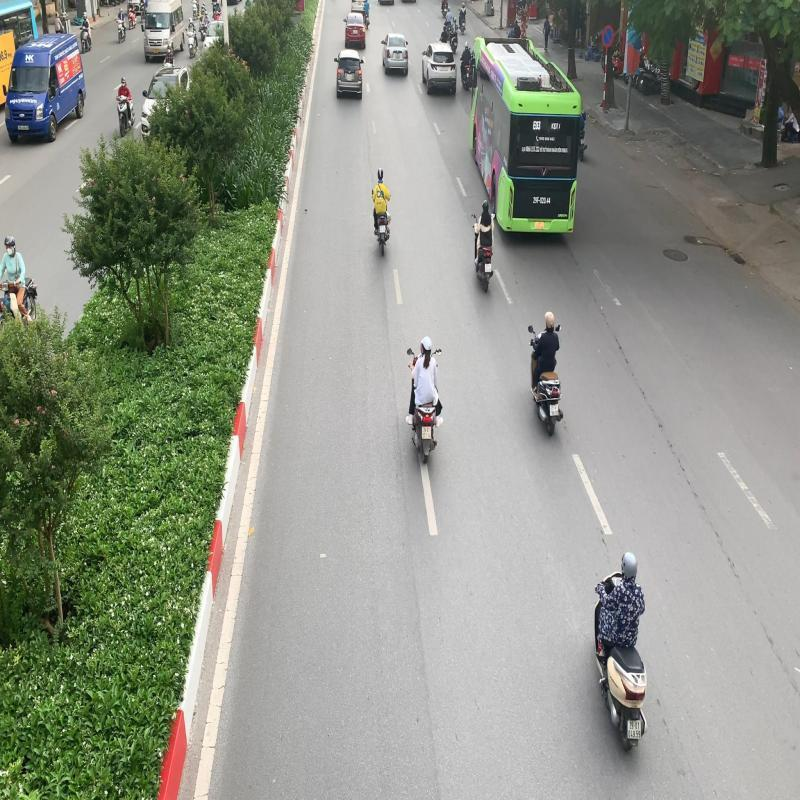helmet: (620, 550, 639, 579), (419, 335, 432, 353), (543, 311, 556, 328), (3, 236, 15, 247)
licenseplate: (626, 718, 642, 740), (420, 426, 433, 440), (549, 402, 560, 416)
motorcyclist: (588, 550, 653, 758), (403, 330, 445, 469), (525, 312, 570, 438)
